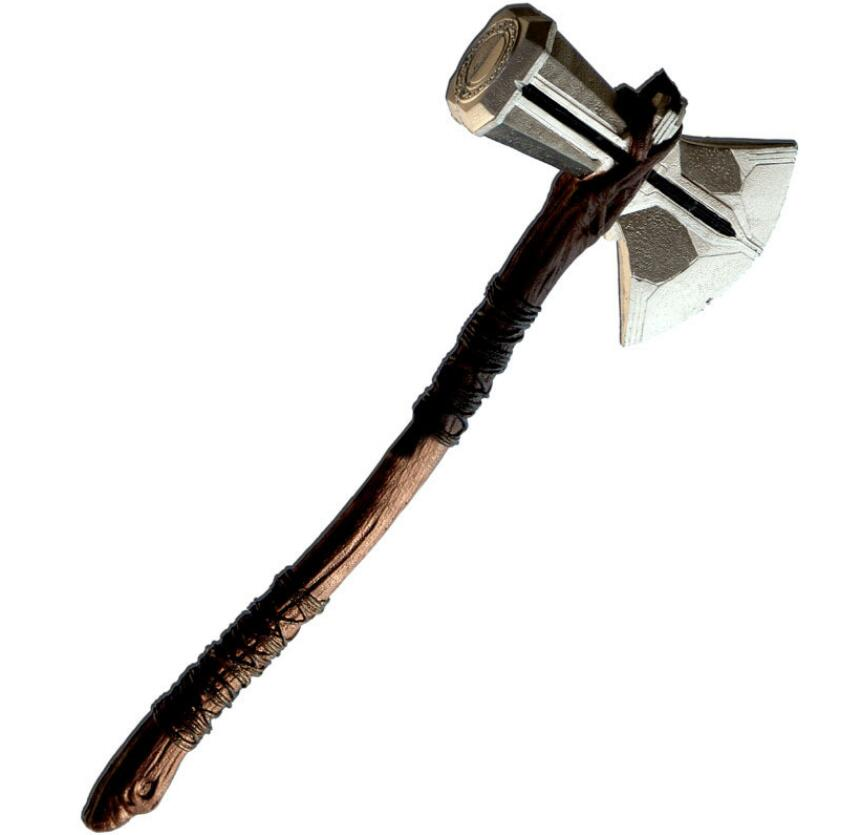THOR Hammer: (64, 14, 809, 730)
